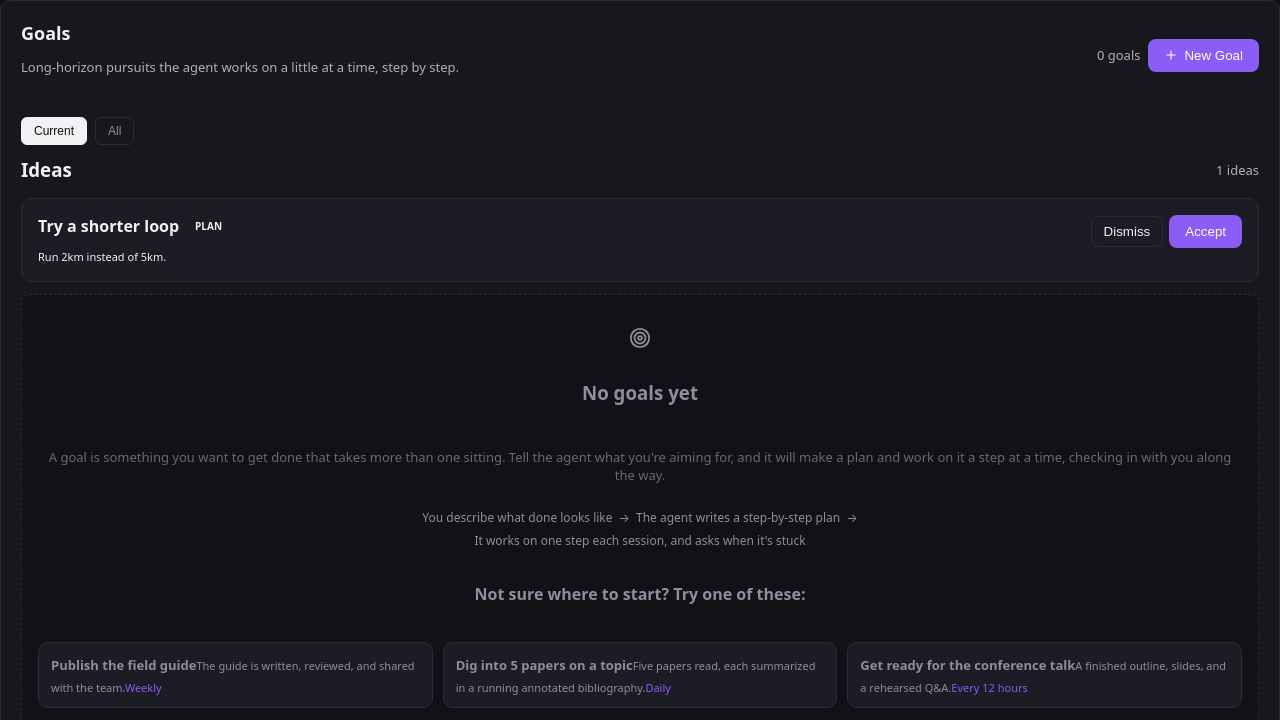
Test: GoalsManager › dismisses a proposed idea through POST
This screenshot has width=1280, height=720.
Expected: the text "Try a shorter loop" is shown, [38,215,179,237]
Click the button with aria-label "Dismiss Try a shorter loop" at [1127, 232], box [1091,216,1163,247]
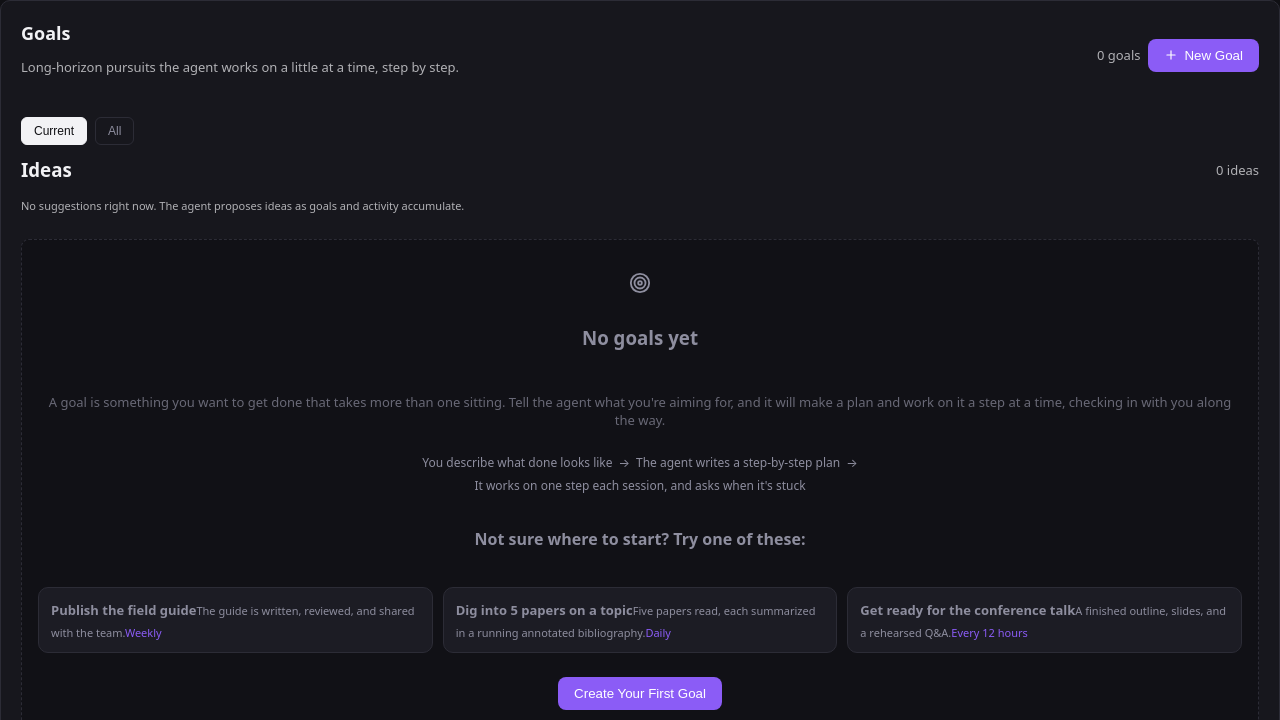
Now the text "Try a shorter loop" is gone
